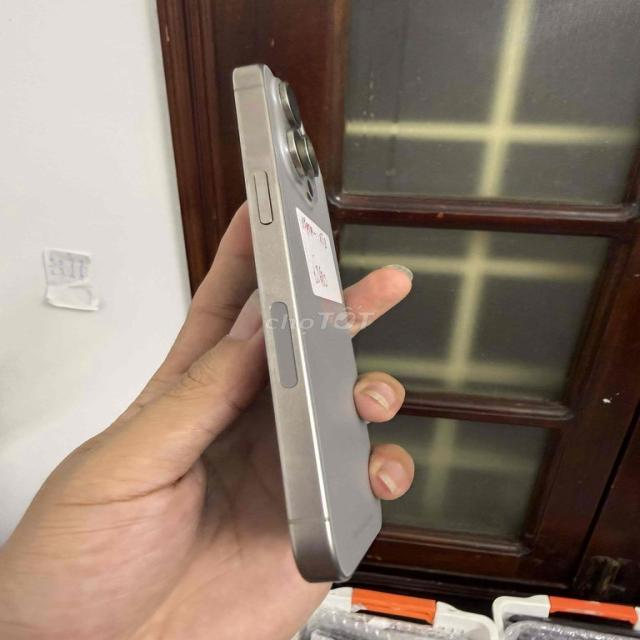gen_15: (223, 58, 399, 594)
